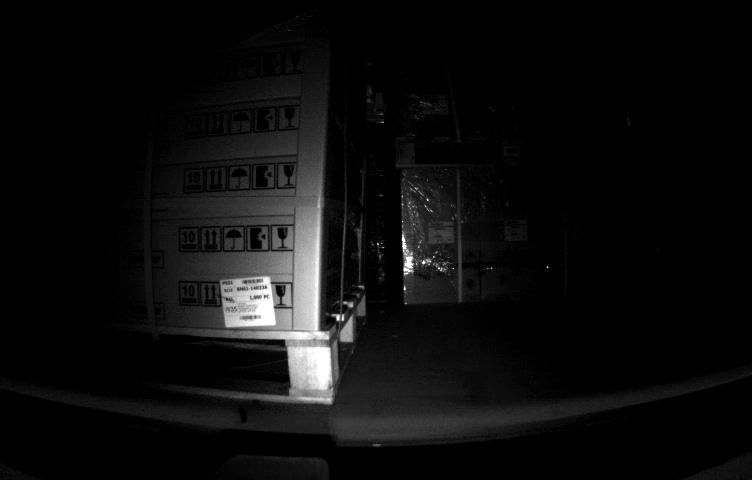True Barcode: (219, 273, 276, 328)
